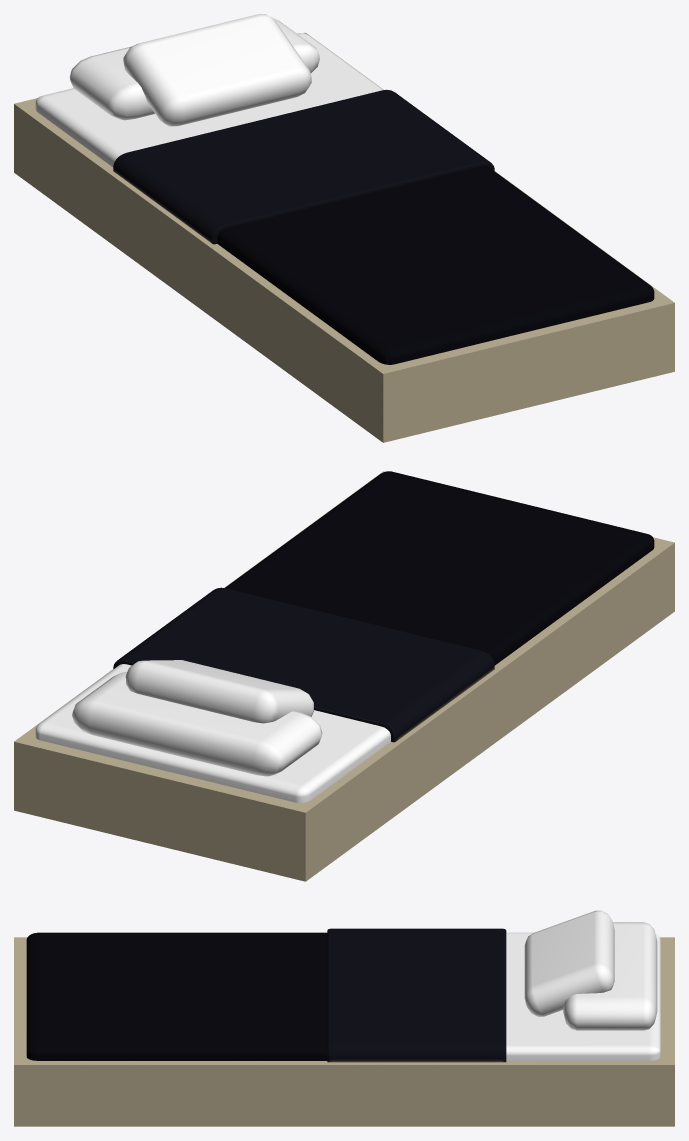
File: Quarters_Bed.fbx
The picture shows the model from 3 angles, top to bottom: view 1: azimuth 30°, elevation 25°; view 2: azimuth 150°, elevation 25°; view 3: azimuth 270°, elevation 25°; orthographic projection. The views are drawn at different scales.
Visible parts, largest first — view 1: Quarters_Bed; view 2: Quarters_Bed; view 3: Quarters_Bed.
Part boxes in pixels (x1=…): Quarters_Bed: x1=14, y1=14, x2=674, y2=442; Quarters_Bed: x1=14, y1=471, x2=674, y2=881; Quarters_Bed: x1=14, y1=910, x2=674, y2=1126.
Size of the model in its own units: 443 by 202 by 971.
